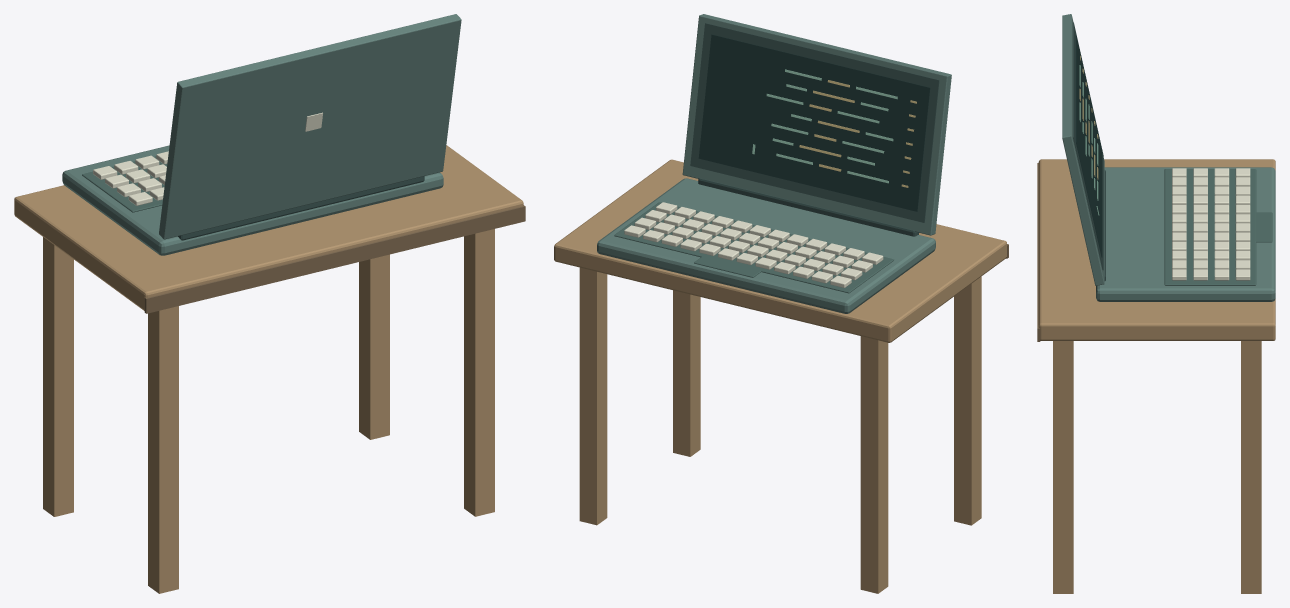
File: laptop_station.glb
3 views of the same model, side by side, from view 1: azimuth 30°, elevation 25°; view 2: azimuth 150°, elevation 25°; view 3: azimuth 270°, elevation 25° (orthographic). The views are drawn at different scales.
Visible parts, largest first — view 1: WorkstationMesh; view 2: WorkstationMesh; view 3: WorkstationMesh.
Part boxes in pixels (x1,y1,x2,y2): WorkstationMesh: (14,14,525,593); WorkstationMesh: (554,14,1008,593); WorkstationMesh: (1037,14,1275,593).
Size of the model in its own units: 0.48 by 0.6019 by 0.292.
